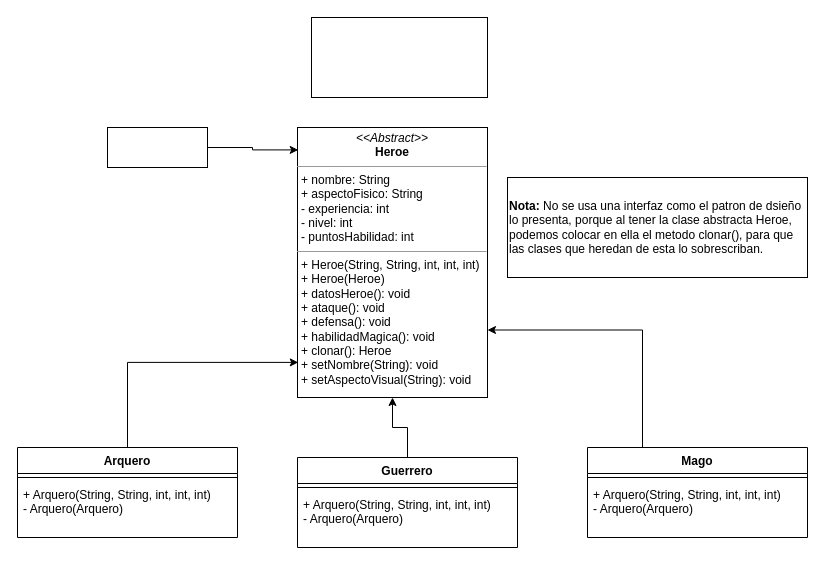
The diagram is 825 pixels wide and 568 high, and some of its shapes have lost their labels. The shapes that lost their labels are listed below. From the top down, each one's centre as x and y in pixels, then its label:
point 399,57: Se utilizo el patron de diseño creacional Prototype
point 157,147: Main
